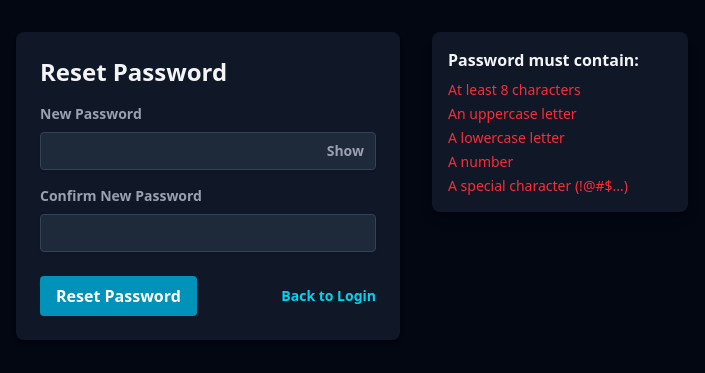
it: ResetPasswordForm › shows error if passwords do not match
This screenshot has width=705, height=373.
Check: the heading "Reset Password" is shown, box [40,55,227,88]
Type "Valid123!" into the password field labelled "New Password".
click(208, 151); type("Valid123!")  # box [40,132,376,170]
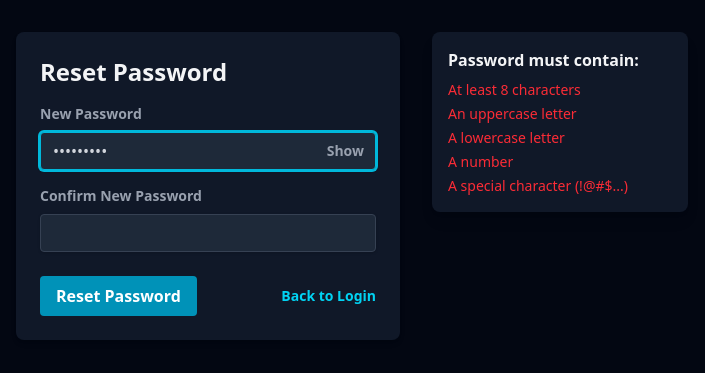
Type "Mismatch123!" into the password field labelled "Confirm New Password".
click(208, 233); type("Mismatch123!")  # box [40,214,376,252]
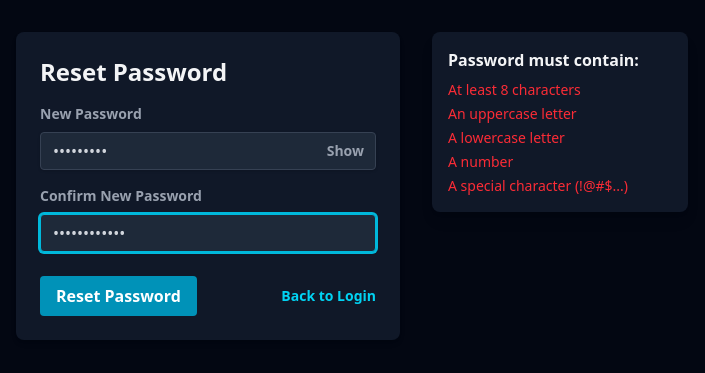
Click the button "Reset Password".
click(118, 296)  # box [40,276,197,316]
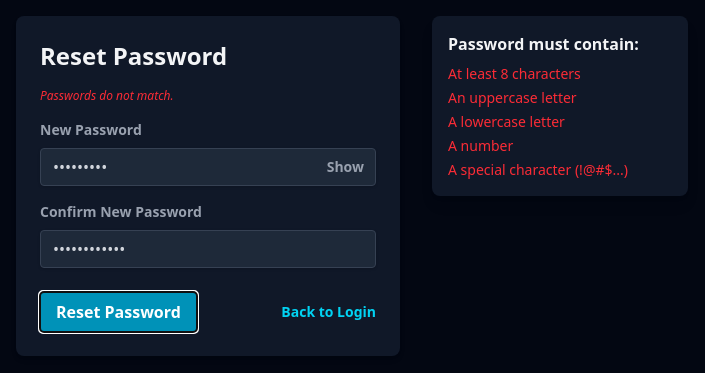
Check: the text "Passwords do not match." is shown, box [40,87,174,104]
